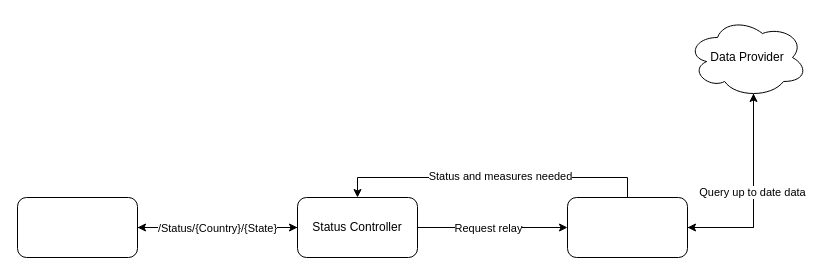
This 825x275 diagram has some shape labels left out. The shapes that lost their labels are listed below. From the top down, each one's box as (x1, y1, x2, y2) in pixels, then its label:
(16, 196, 138, 258): EndUser
(566, 196, 688, 258): Backend Magic
